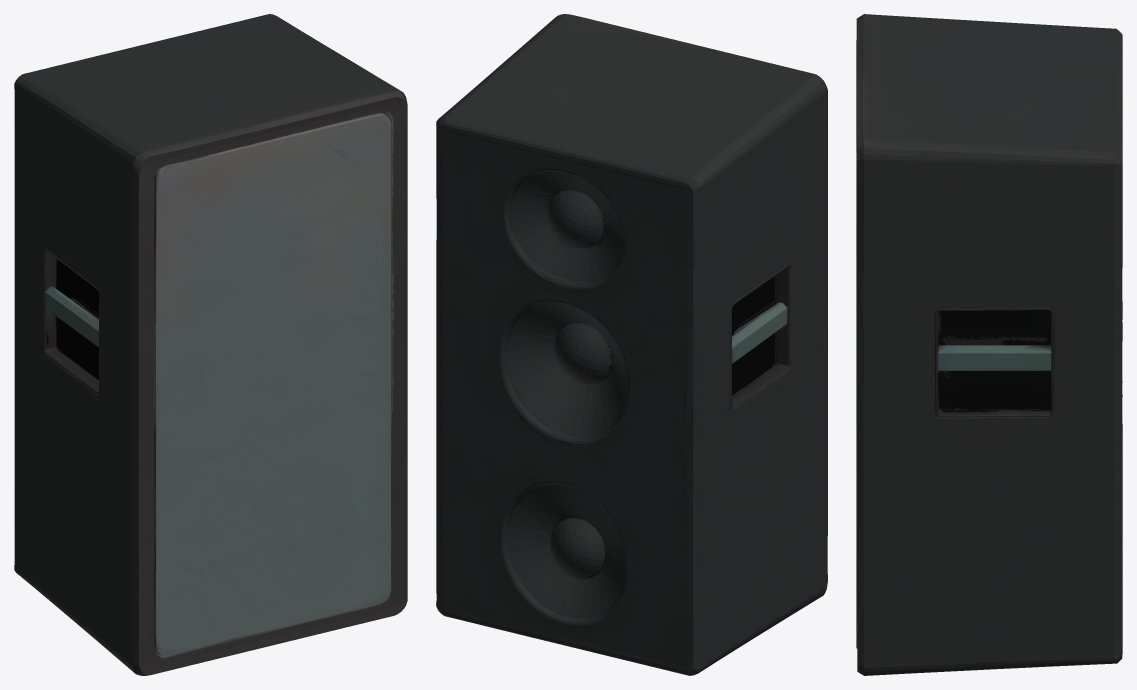
The model's file is speaker_cabinet.glb.
The picture shows the model from 3 angles, left to right: view 1: azimuth 30°, elevation 25°; view 2: azimuth 150°, elevation 25°; view 3: azimuth 270°, elevation 25°; orthographic projection. The views are drawn at different scales.
Visible parts, largest first — view 1: speaker_cabinet; view 2: speaker_cabinet; view 3: speaker_cabinet.
Boxes of the visible parts, x1=… form: speaker_cabinet: x1=14, y1=14, x2=407, y2=675; speaker_cabinet: x1=436, y1=14, x2=827, y2=675; speaker_cabinet: x1=856, y1=14, x2=1122, y2=675.
Bounding box in the file's own units: 0.2737 × 0.5 × 0.2255.
1 material, 1 textured.
